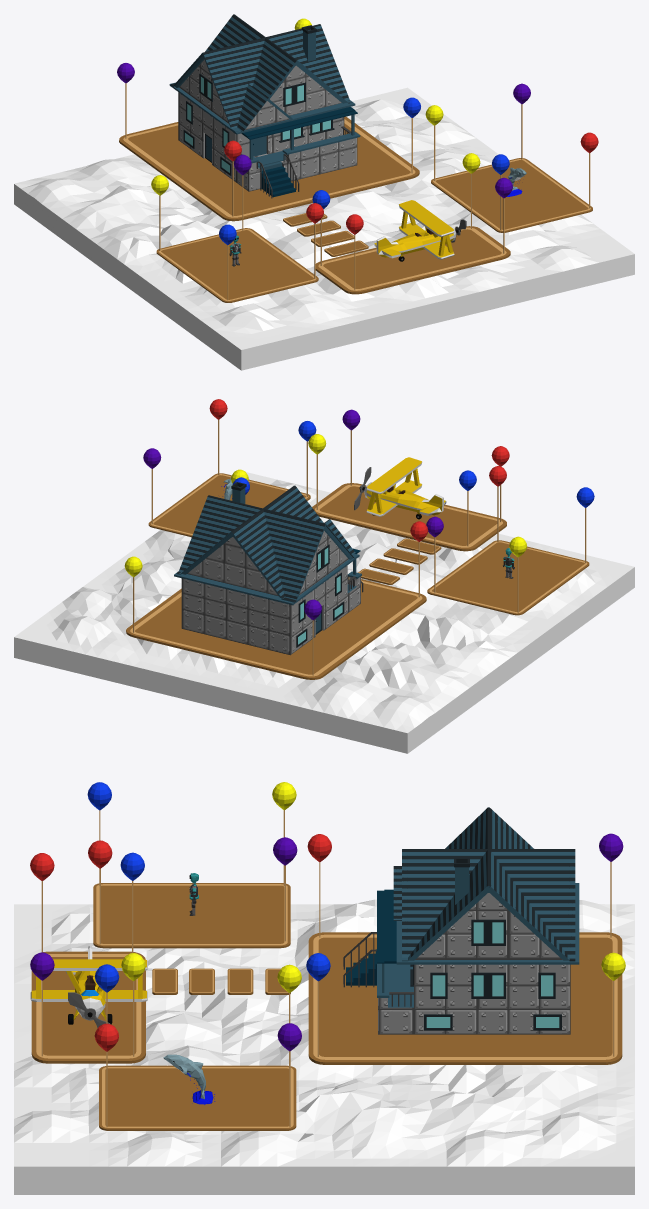
3 views of the same model, one above another, from view 1: azimuth 30°, elevation 25°; view 2: azimuth 150°, elevation 25°; view 3: azimuth 270°, elevation 25° (orthographic). The views are drawn at different scales.
Visible parts, largest first — view 1: Cube.013, Cube.078, VEHICLES_AIRPLANE; view 2: Cube.013, Cube.078, VEHICLES_AIRPLANE; view 3: Cube.013, Cube.078, VEHICLES_AIRPLANE, ANIMAL_DELFIN.
Boxes of the visible parts, box(x1,y1,x2,y2) form: Cube.013: box(14, 18, 634, 370); Cube.078: box(169, 14, 360, 198); VEHICLES_AIRPLANE: box(374, 200, 466, 261); Cube.013: box(14, 399, 634, 753); Cube.078: box(174, 482, 363, 655); VEHICLES_AIRPLANE: box(354, 457, 446, 519); Cube.013: box(14, 782, 634, 1194); Cube.078: box(343, 807, 579, 1034); VEHICLES_AIRPLANE: box(30, 946, 147, 1027); ANIMAL_DELFIN: box(163, 1054, 215, 1104).
Size of the model in its own units: 4000 by 1696 by 4000.
Materials: 37 (3 with a texture image).
